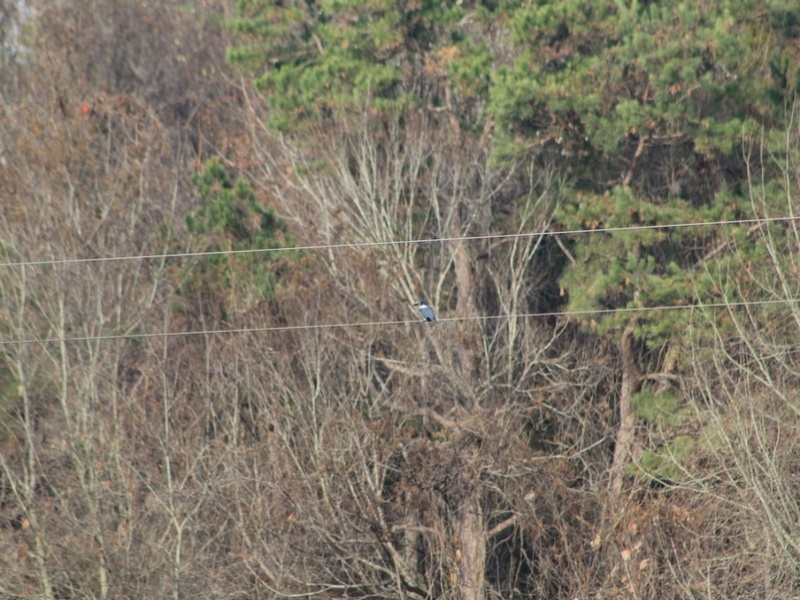kingfisher: (414, 299, 436, 323)
